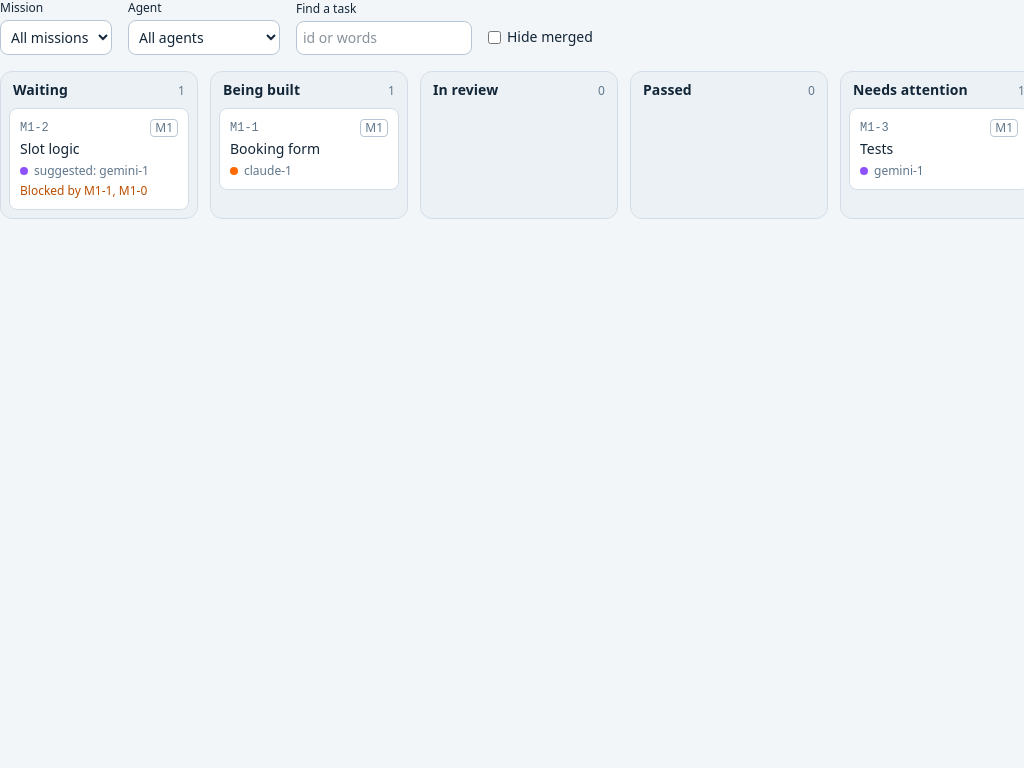
Test: a task opened from the board › shows what it should do, who has it, what it waits for, and the files it changed
Click the button "M1-1 M1 Booking form claude-1".
click(309, 149)  # box [219,108,399,190]
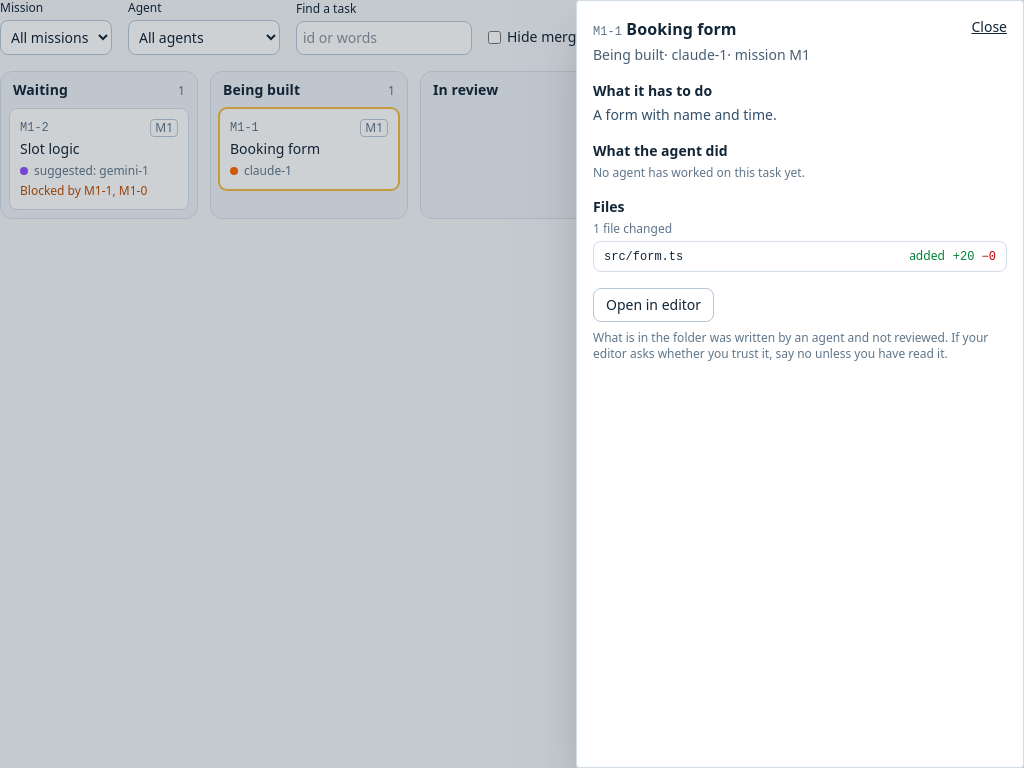
Result: the heading "M1-1 Booking form" is shown at [593,17,737,41]
Result: the text "A form with name and time." is shown at [593,105,777,124]
Result: the text "Being built" is shown at [593,45,664,64]
